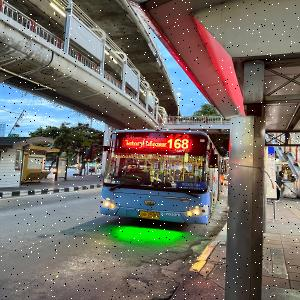BMTA-bus: (99, 130, 218, 225)
Bus Line Number: (167, 138, 190, 150)
Bus Side Number: (159, 212, 181, 216)
Destination Sign: (176, 181, 206, 191)
